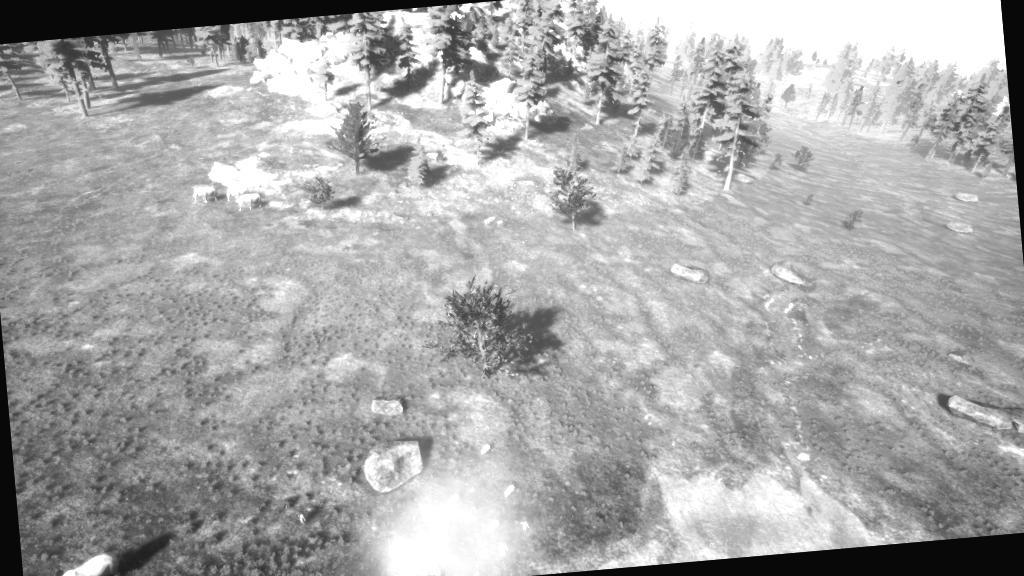Fire: (395, 558, 459, 575)
elephant: (39, 545, 134, 575), (192, 184, 220, 206), (237, 192, 264, 212), (226, 184, 252, 204)
human: (290, 508, 314, 533), (517, 516, 534, 535), (498, 540, 511, 557)
pig: (484, 516, 504, 534), (501, 482, 519, 498), (444, 492, 462, 508), (478, 442, 492, 456)
zebra: (494, 218, 507, 228), (482, 216, 492, 226)
